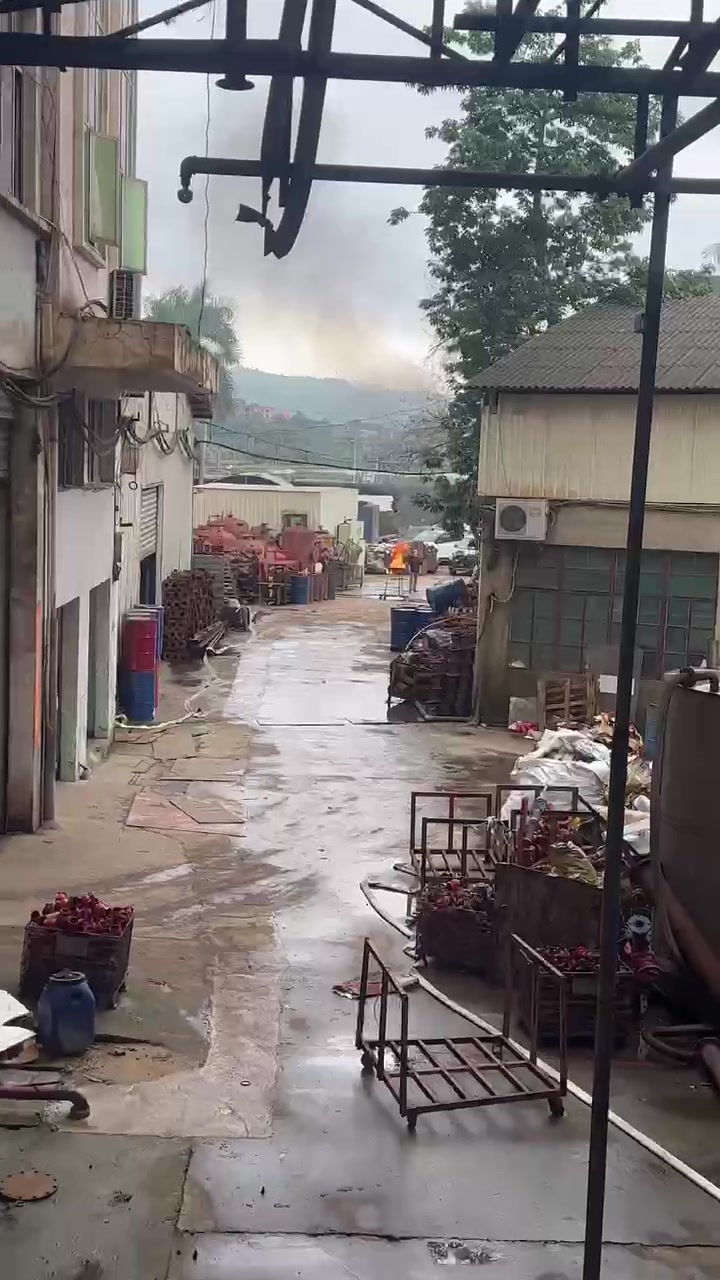fire: (389, 542, 407, 567)
